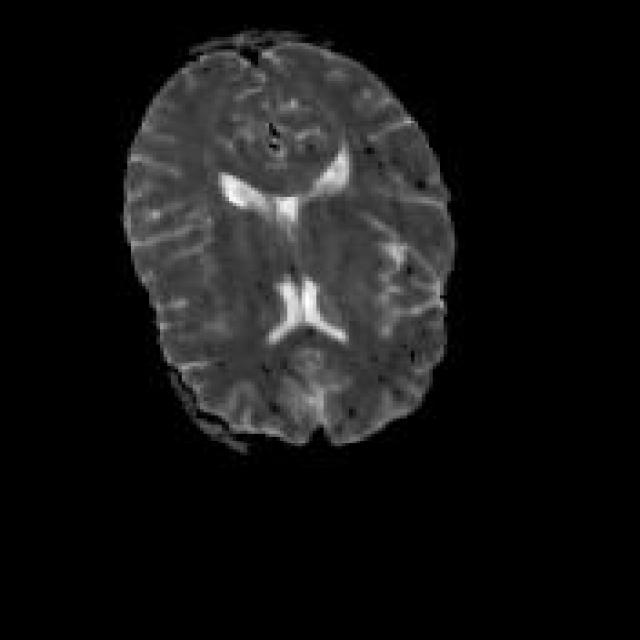CONTROL: (120, 25, 455, 452)
